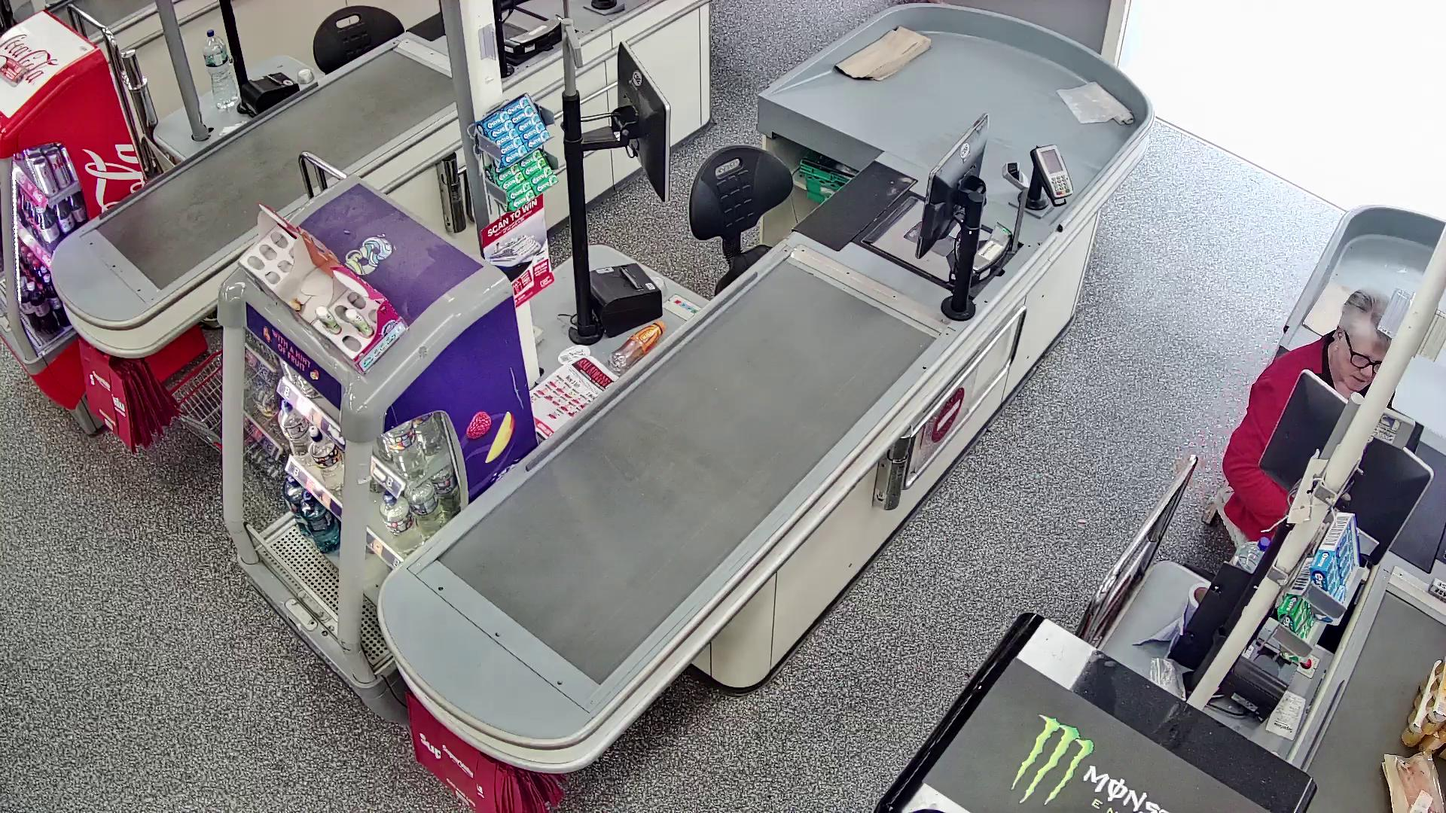occupied-checkout-counter: (1177, 280, 1446, 719)
vacant-checkout-counter: (535, 12, 1074, 367), (235, 0, 563, 164)
